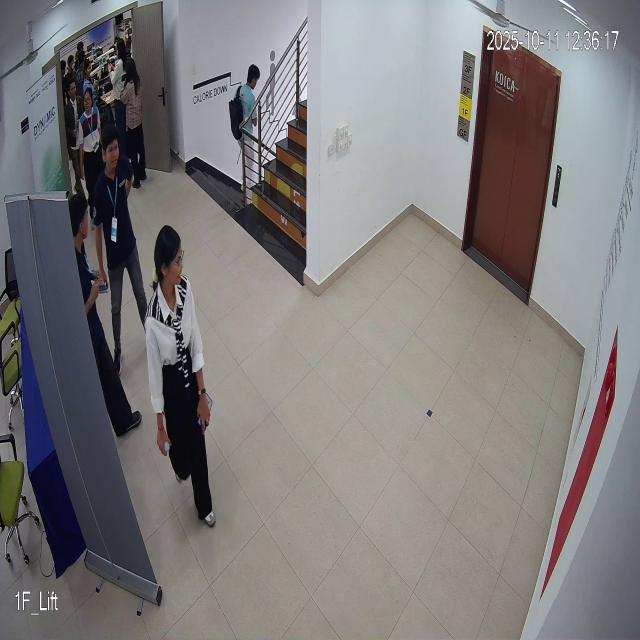face: (151, 218, 188, 290), (102, 123, 123, 174)
